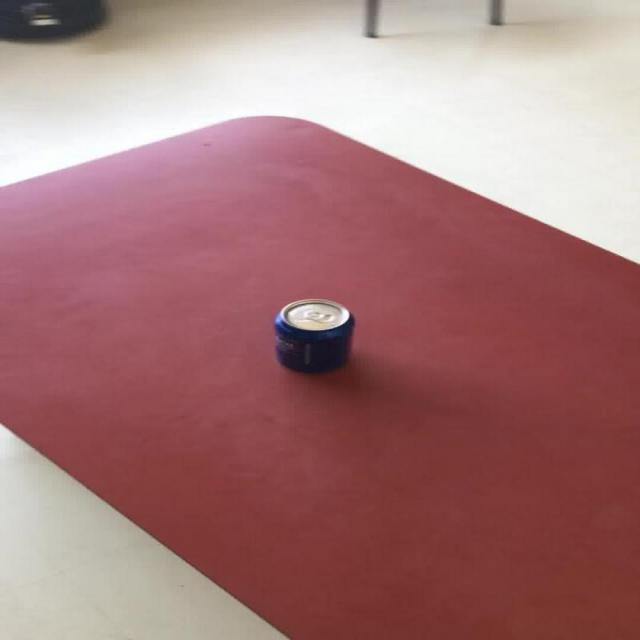Tonic: (272, 297, 354, 373)
